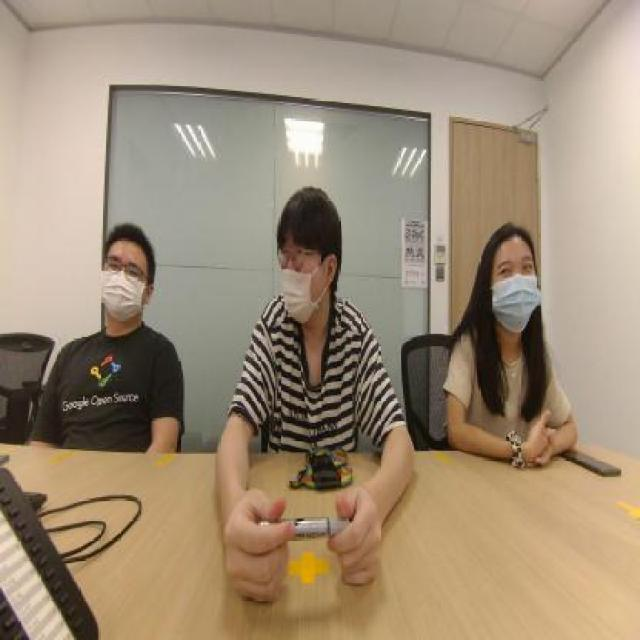Person: (248, 159, 369, 424), (38, 198, 176, 414), (455, 179, 554, 435)
